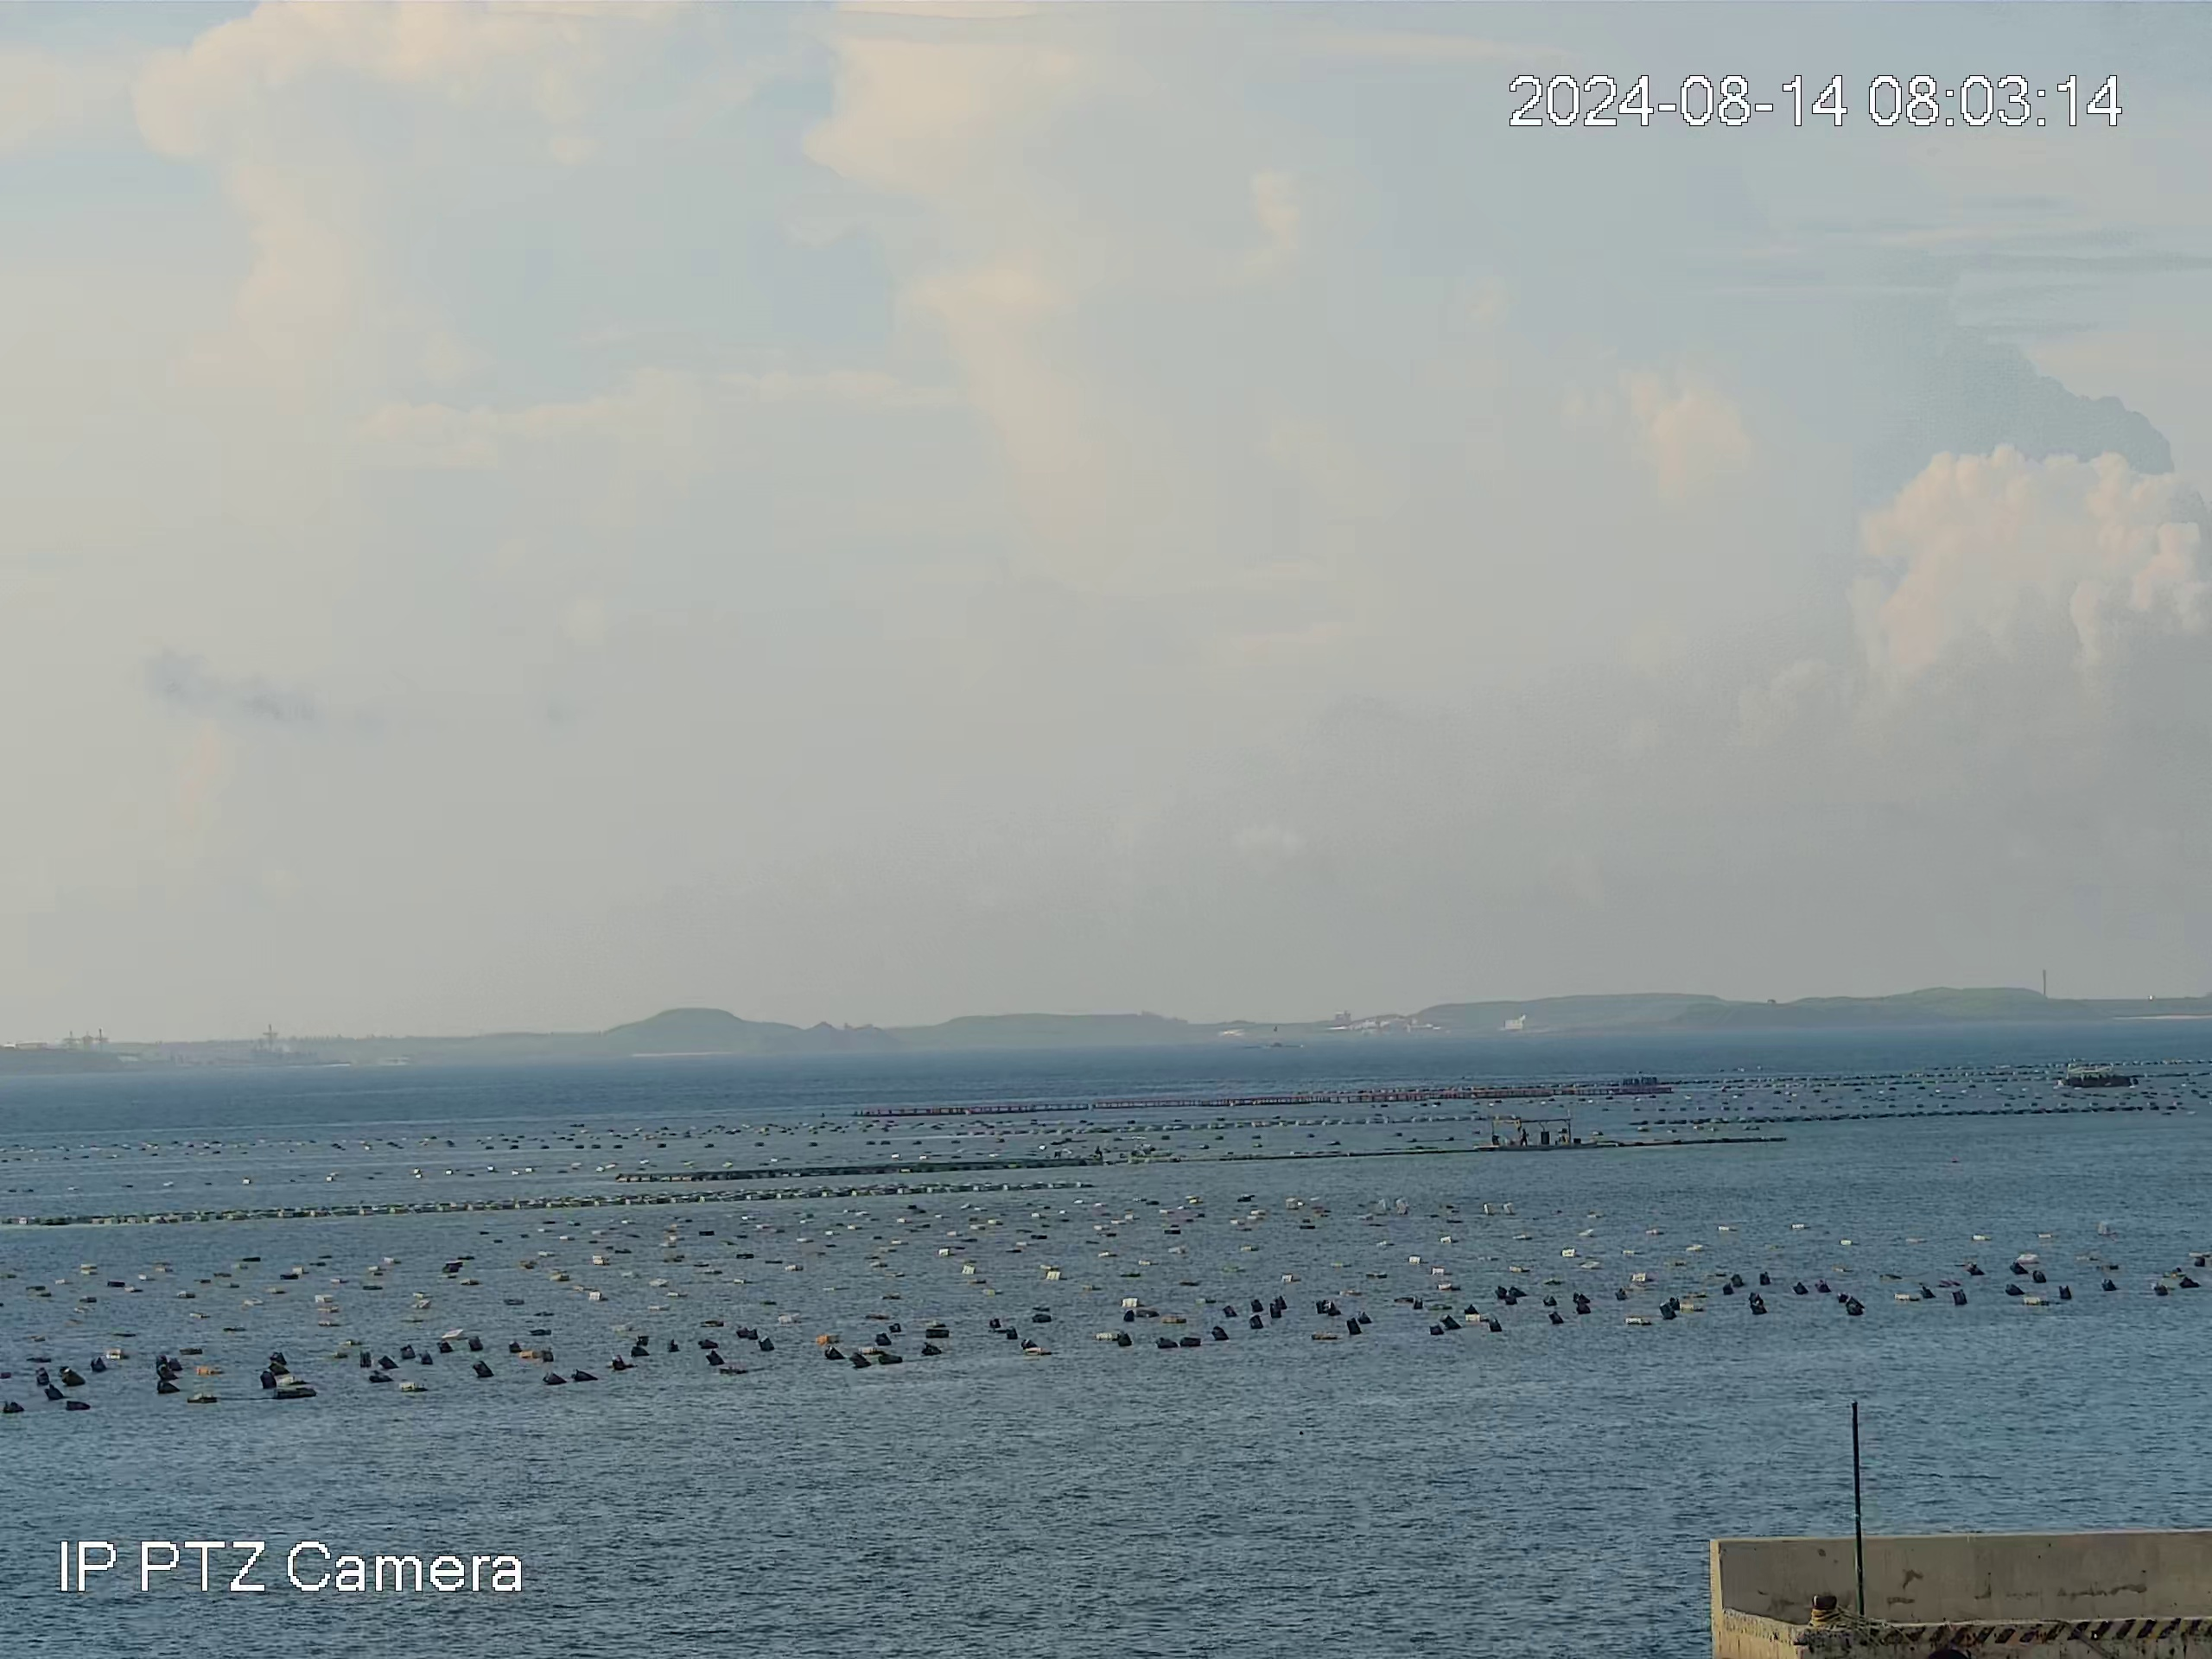boat: (1478, 1113, 1582, 1153), (2058, 1064, 2144, 1088)
